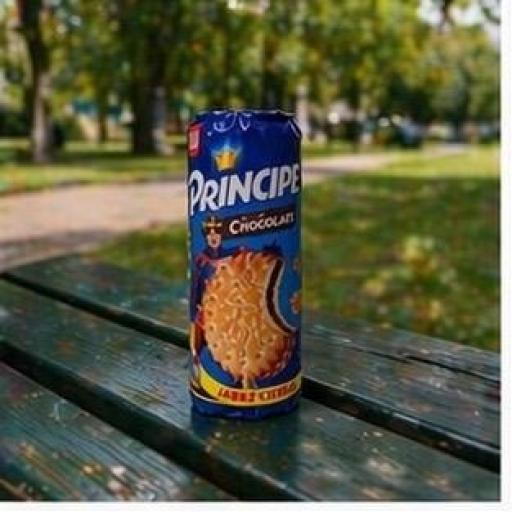prince: (123, 84, 410, 462)
